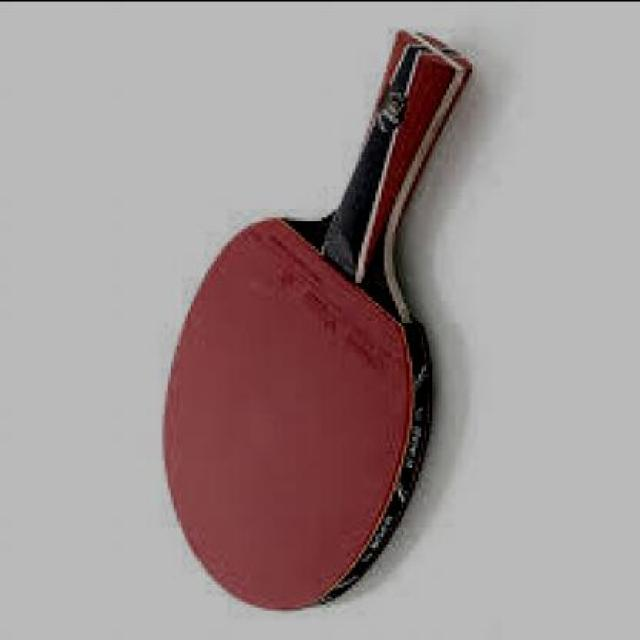table_tennis_racket: (160, 203, 432, 608)
